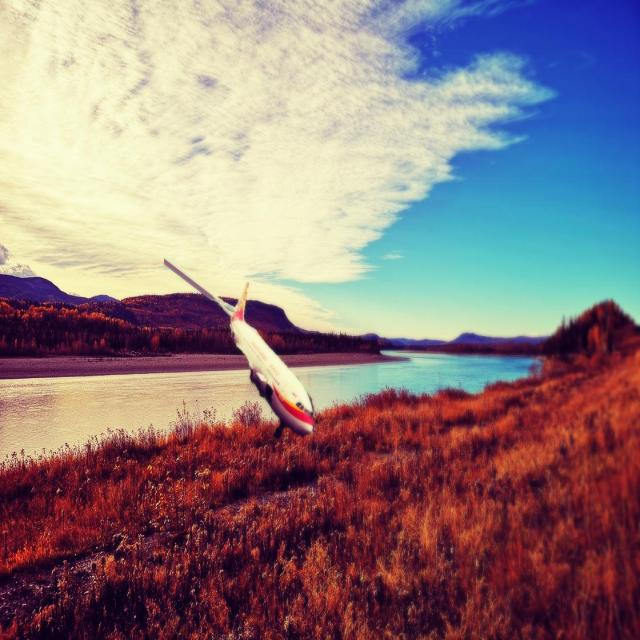airplane: (162, 257, 316, 439)
